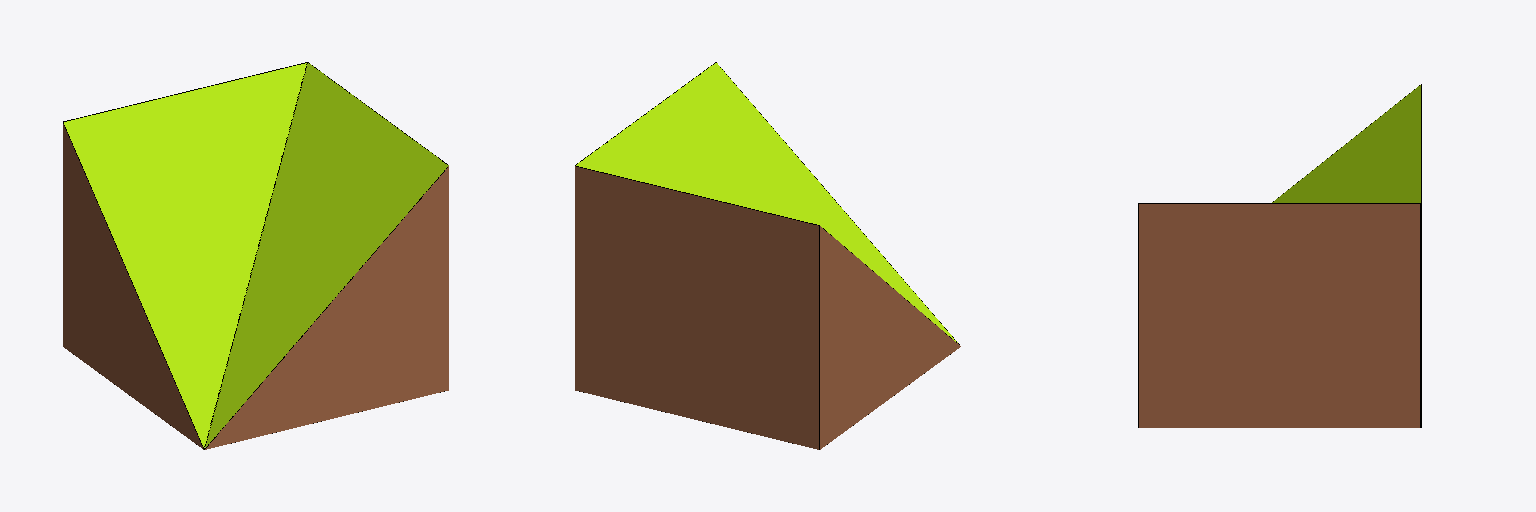
3 views of the same model, side by side, from view 1: azimuth 30°, elevation 25°; view 2: azimuth 150°, elevation 25°; view 3: azimuth 270°, elevation 25° (orthographic).
Parts seen in each view (by area): view 1: corner_ramp_Cube.003; view 2: corner_ramp_Cube.003; view 3: corner_ramp_Cube.003.
Boxes of the visible parts, box(x1,y1,x2,y2) form: corner_ramp_Cube.003: box(63, 62, 448, 449); corner_ramp_Cube.003: box(575, 62, 960, 449); corner_ramp_Cube.003: box(1138, 84, 1421, 427).
Bounding box in the file's own units: 2 × 1.75 × 2.
1 materials, 1 textured.